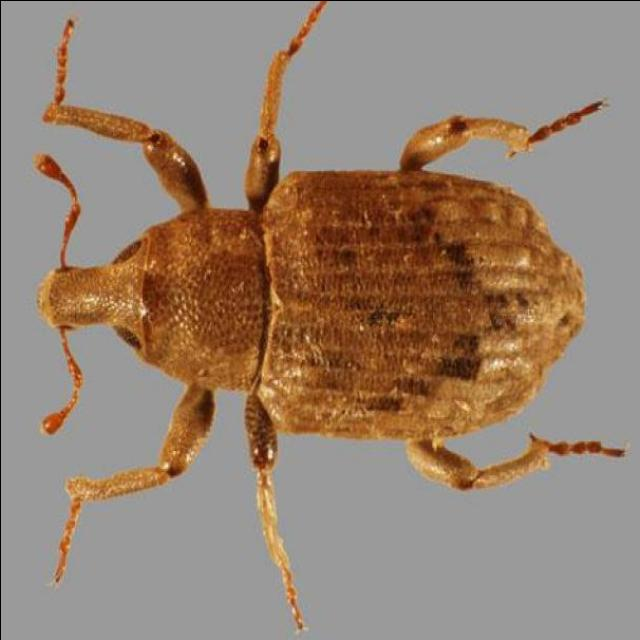ricebug: (34, 0, 622, 627)
